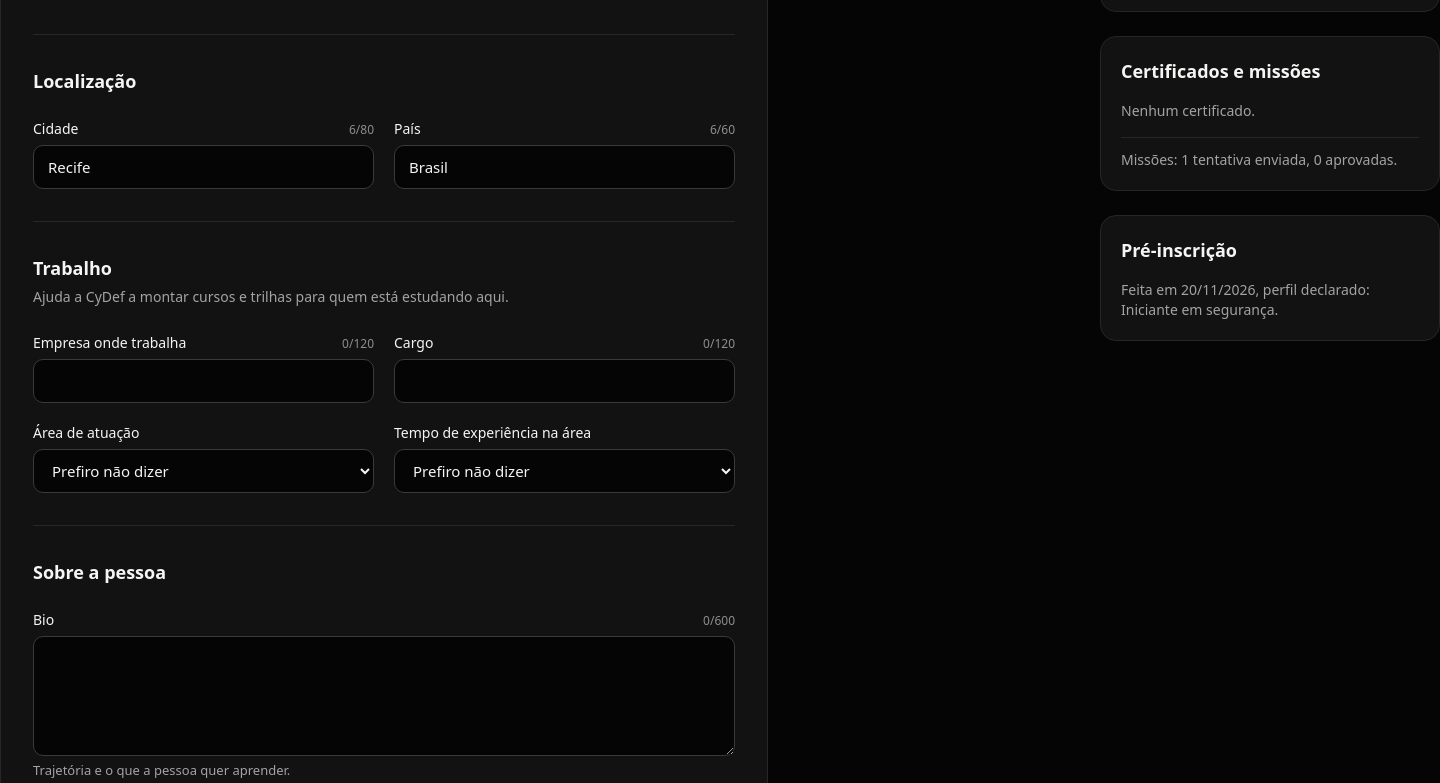
Test: painel do admin: indicadores e pessoas › erro de conta protegida aparece com a mensagem certa
The width and height of the screenshot is (1440, 783).
(page scrolled)
Type "Analista" into the field labelled "Cargo".
click(564, 381); type("Analista")  # box 394,359 -> 735,403
(page scrolled)
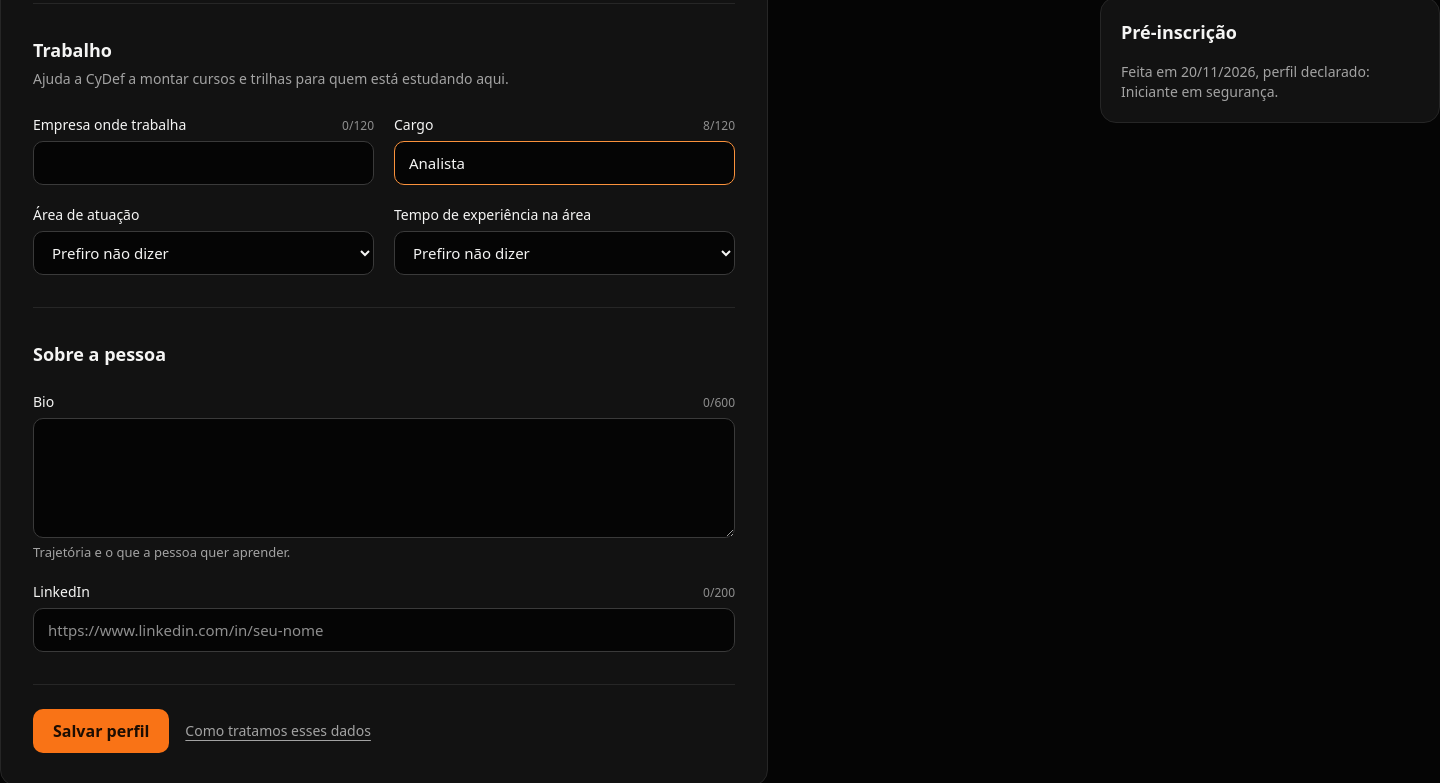
Click the button "Salvar perfil".
click(101, 730)  # box 33,708 -> 169,752
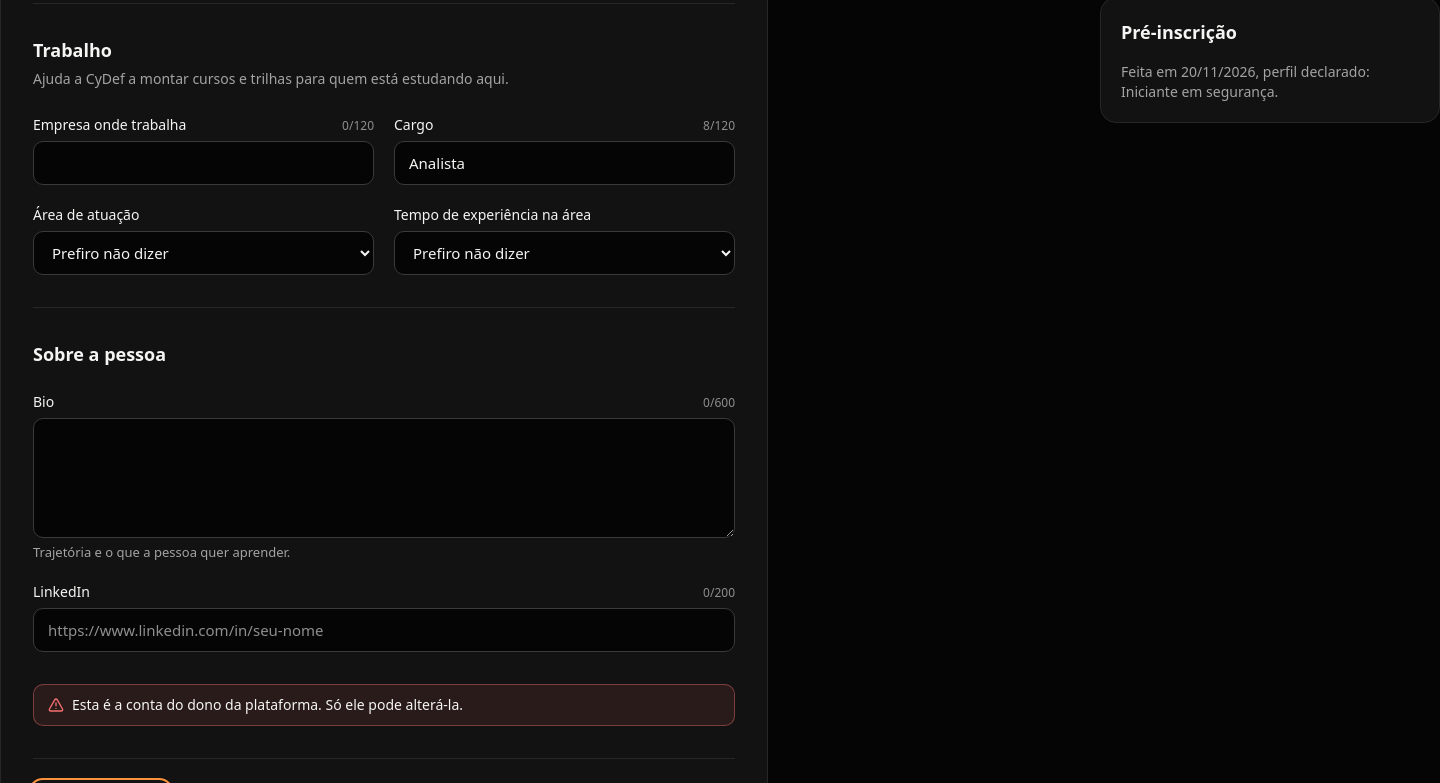
Result: the text "Esta é a conta do dono da plataforma. Só ele pode alterá-la." is shown at 33,684 -> 735,726
